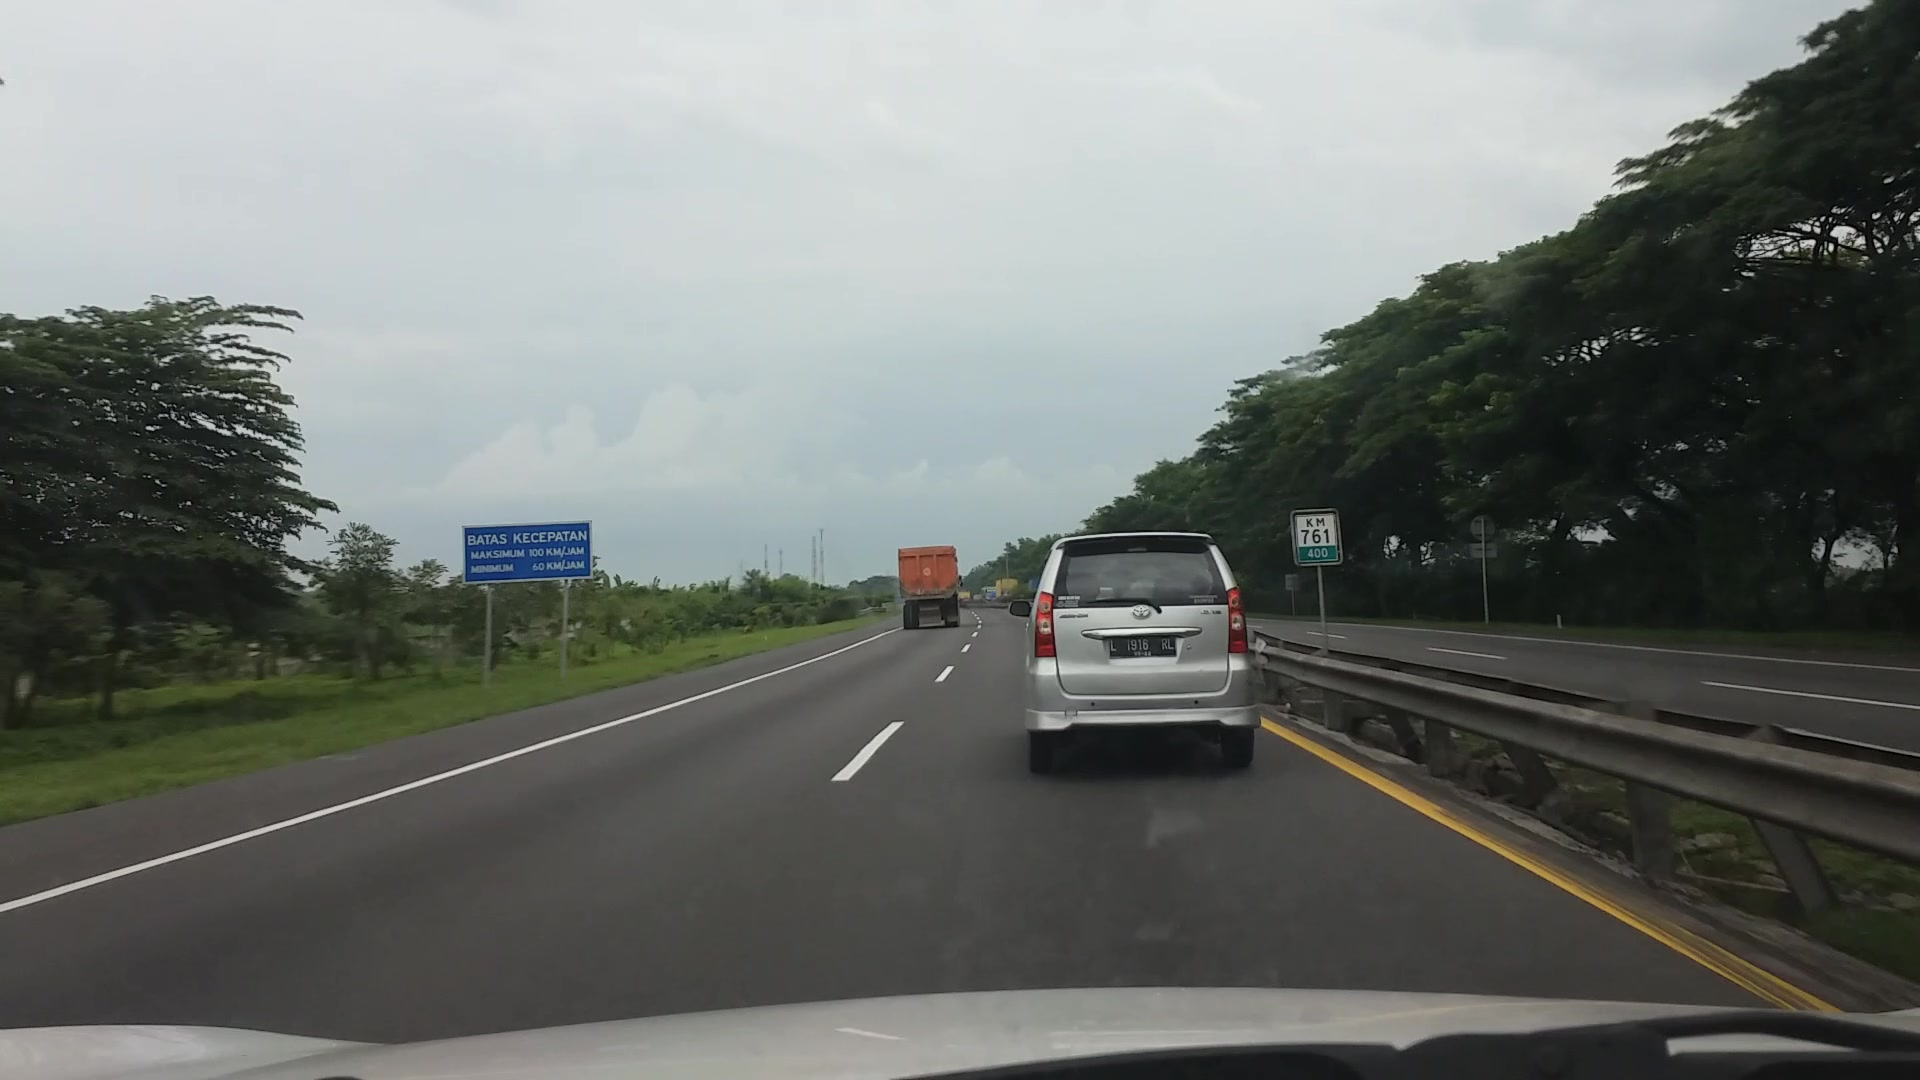plate_positive: (1109, 636, 1176, 658)
